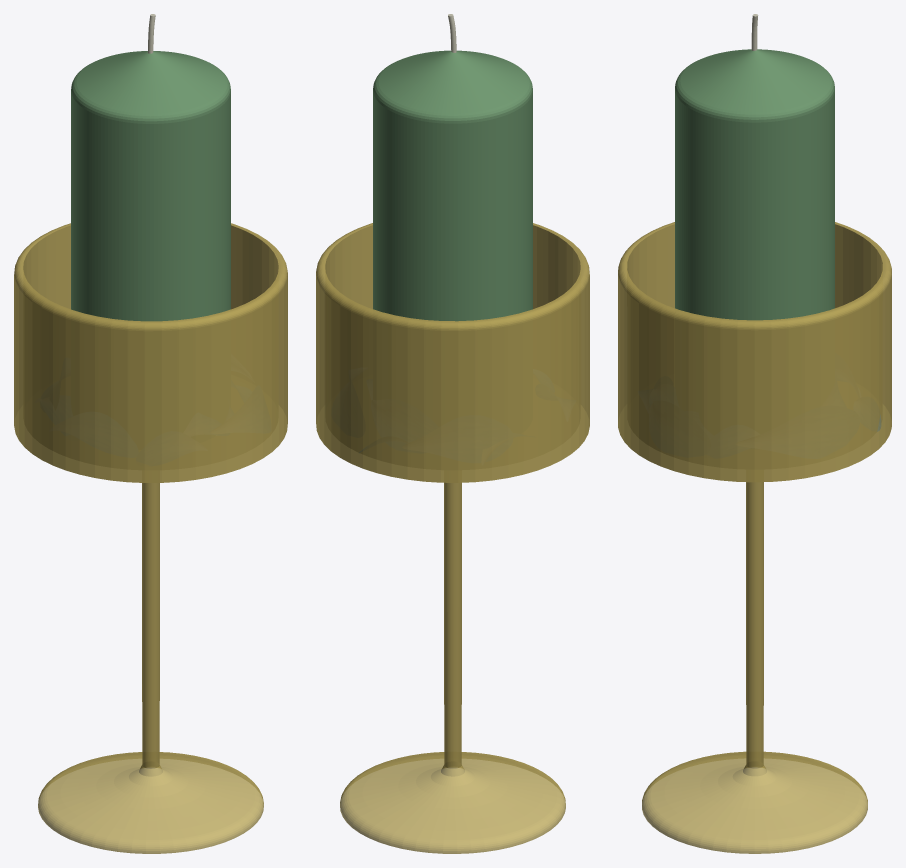
The model's file is Candle.obj.
3 views of the same model, side by side, from view 1: azimuth 30°, elevation 25°; view 2: azimuth 150°, elevation 25°; view 3: azimuth 270°, elevation 25° (orthographic).
Visible parts, largest first — view 1: Line045_Line045_Mat_win, Circle007_Circle007_candle; view 2: Line045_Line045_Mat_win, Circle007_Circle007_candle; view 3: Line045_Line045_Mat_win, Circle007_Circle007_candle.
Boxes of the visible parts, bbox=[...] form: Line045_Line045_Mat_win: bbox=[14, 223, 287, 853]; Circle007_Circle007_candle: bbox=[71, 51, 230, 321]; Line045_Line045_Mat_win: bbox=[316, 223, 589, 853]; Circle007_Circle007_candle: bbox=[373, 50, 532, 321]; Line045_Line045_Mat_win: bbox=[618, 222, 891, 853]; Circle007_Circle007_candle: bbox=[675, 49, 834, 320].
Bounding box in the file's own units: 0.8972 × 2.86 × 0.8957.
